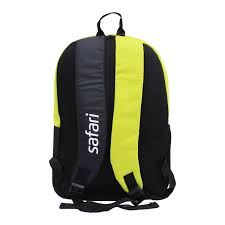backpack: (48, 11, 176, 212)
